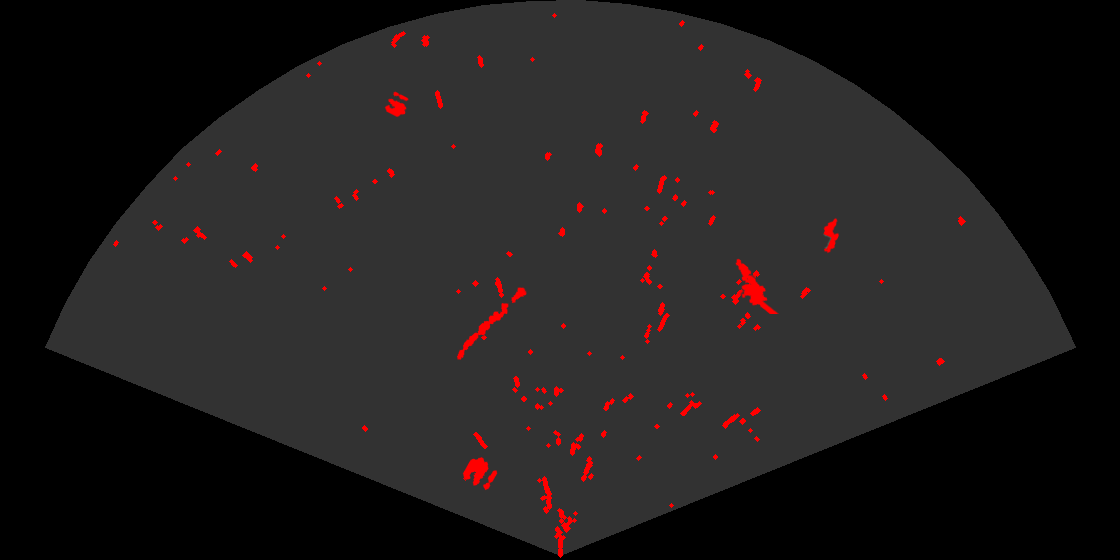AUV: (822, 216, 841, 255)
ball: (461, 456, 499, 492), (383, 90, 410, 119)
chain: (455, 286, 528, 361)
frogman: (734, 257, 779, 314)
